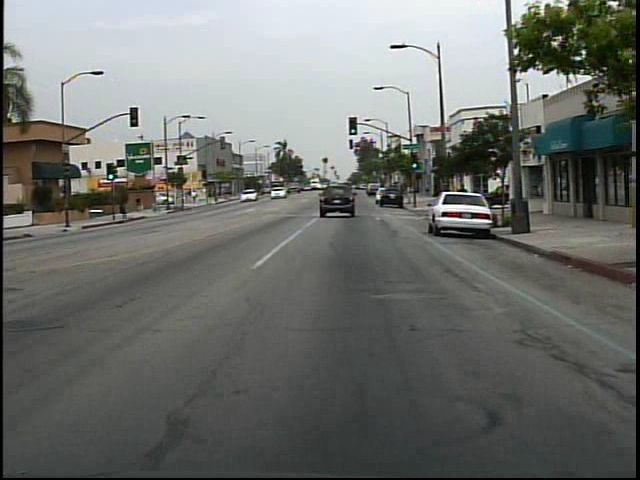person: (452, 179, 472, 217), (131, 191, 151, 220), (191, 188, 200, 206)
